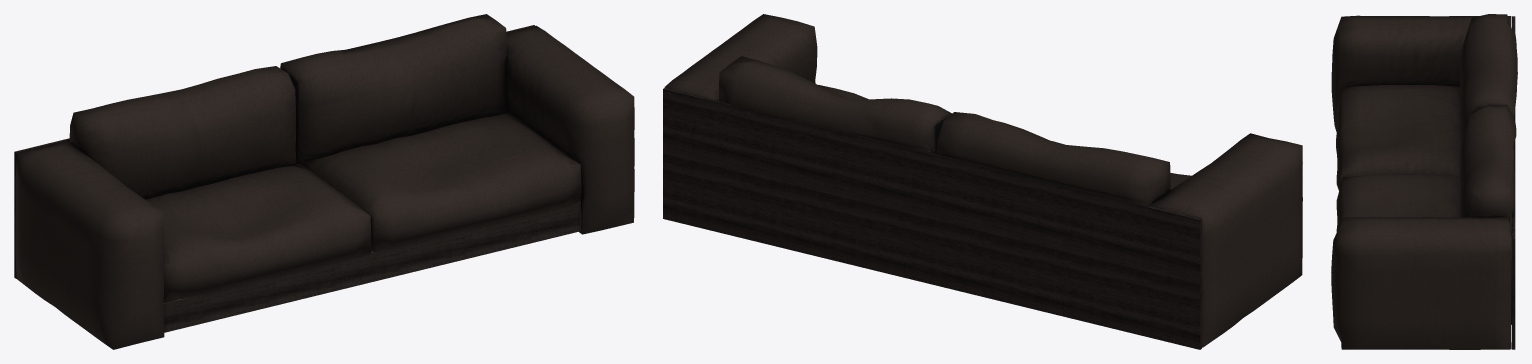
Rendered from sofa2.glb.
3 renders of one model, left to right at view 1: azimuth 30°, elevation 25°; view 2: azimuth 150°, elevation 25°; view 3: azimuth 270°, elevation 25°, orthographic. The views are drawn at different scales.
Parts seen in each view (by area): view 1: Sofa_0; view 2: Sofa_0; view 3: Sofa_0.
Boxes of the visible parts, box(x1,y1,x2,y2) form: Sofa_0: box(14, 14, 634, 349); Sofa_0: box(663, 14, 1302, 349); Sofa_0: box(1331, 14, 1517, 349).
Size of the model in its own units: 3.03 by 0.8746 by 1.05.
Materials: 1 (1 with a texture image).
